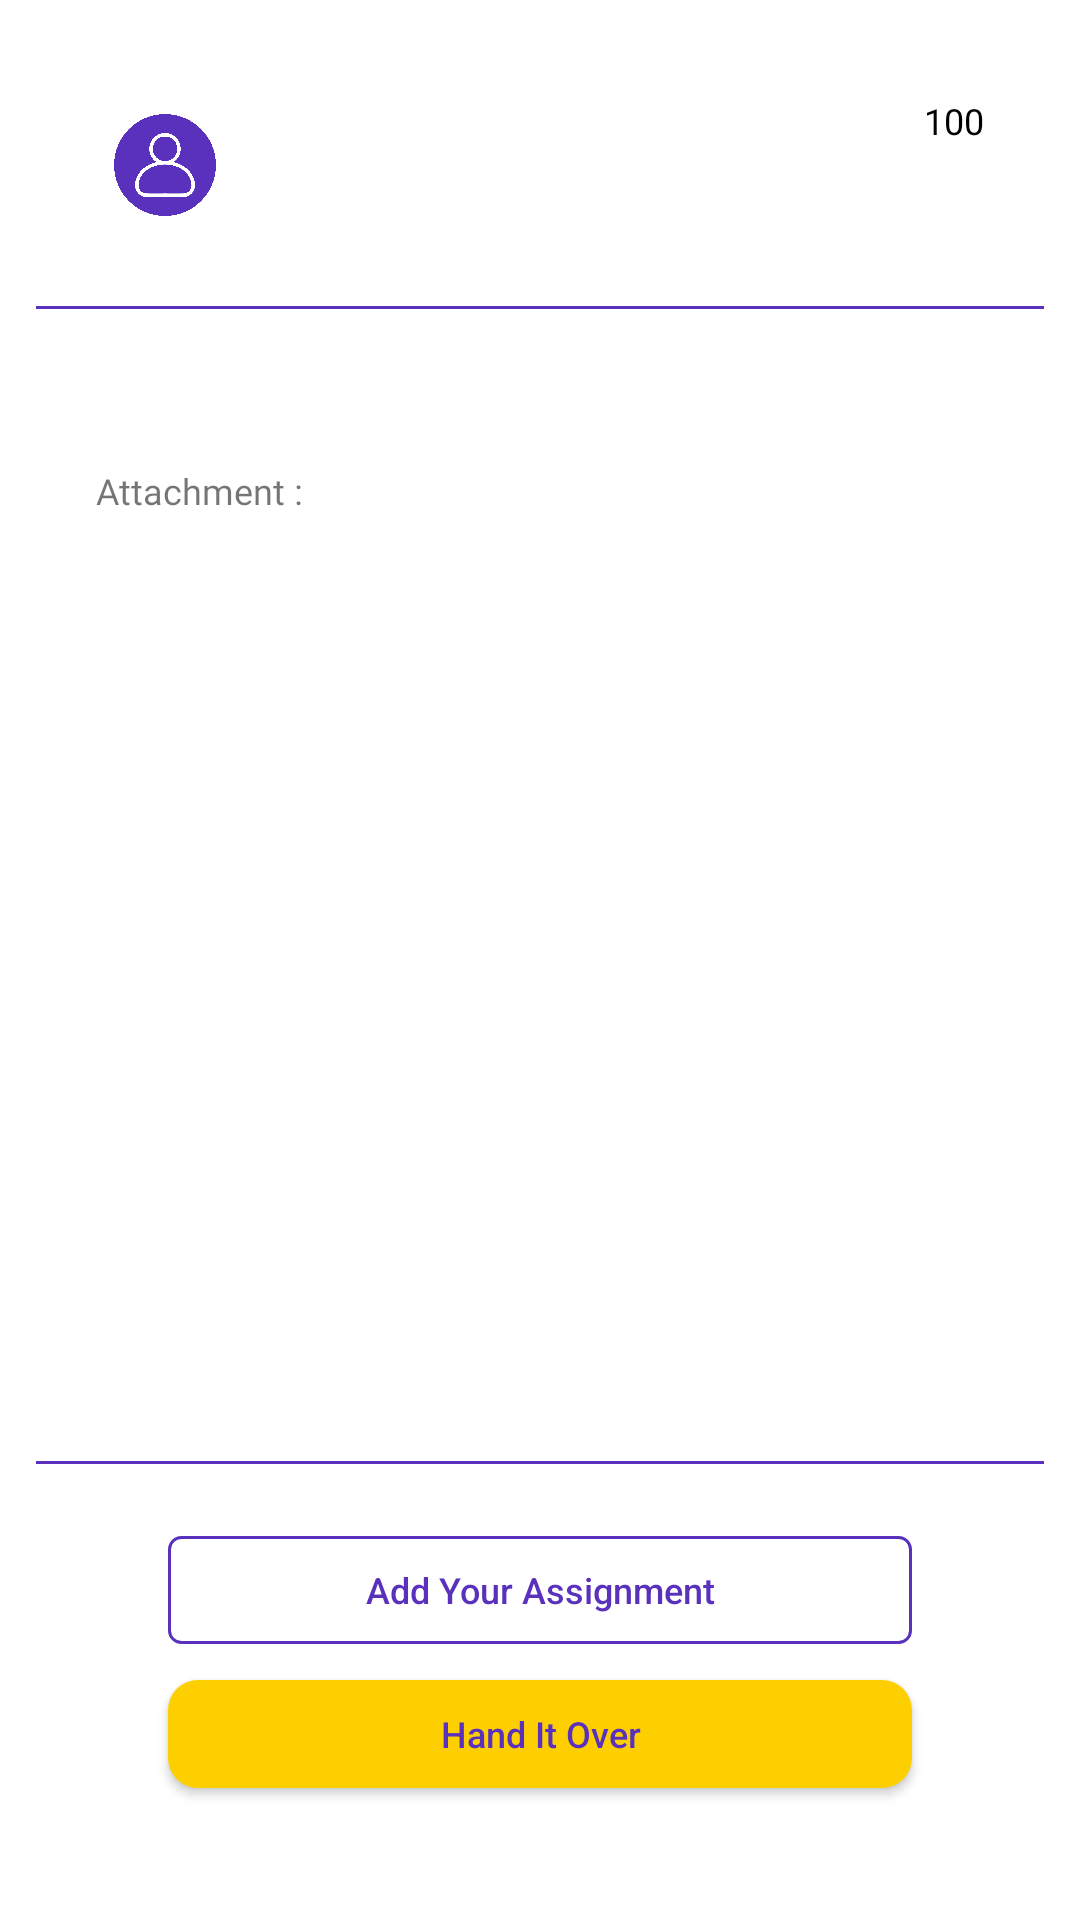

Icon click points for this 1080*1920 phone screenshot, format point (x, y):
profile: point (165, 165)
